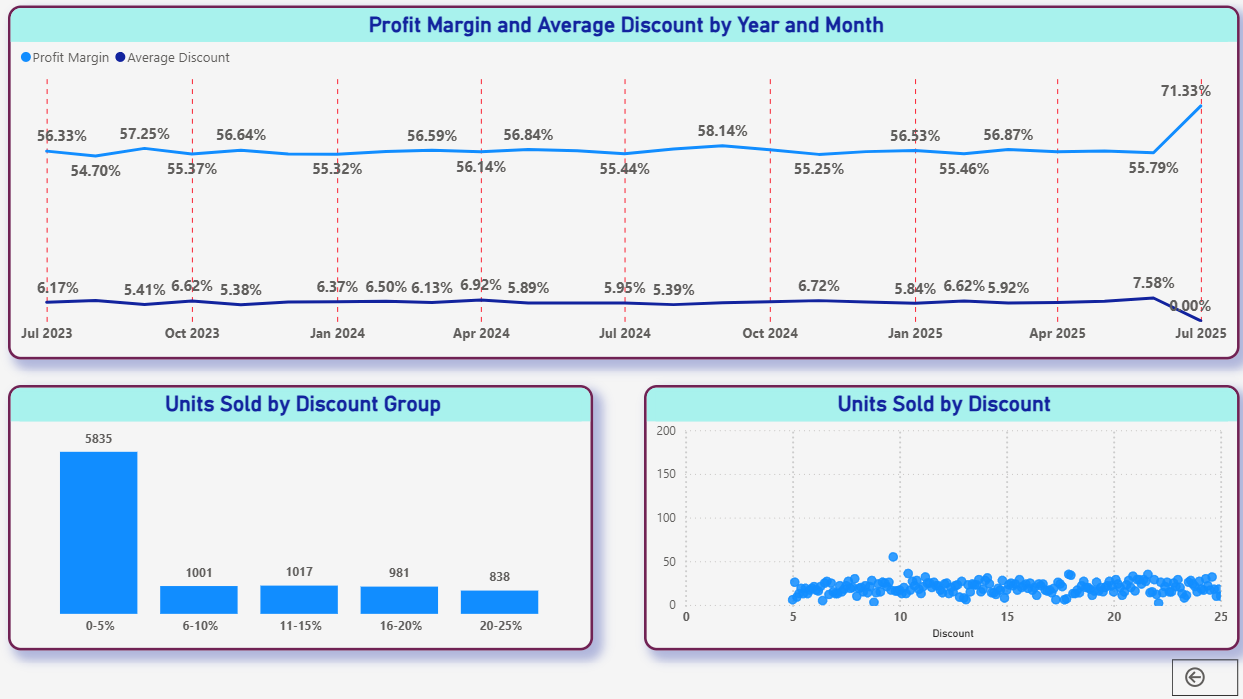

Layout of this report page (visuals, bound fields, positions):
{"tool":"powerbi","page":{"name":"Trends and insights","canvas":[1280,720],"ordinal":3},"visuals":[{"type":"lineChart","fields":{"Y":["tastybites_orders.Profit Margin","tastybites_orders.Average Discount"],"Category":["tastybites_orders.OrderDate.Variation.Date Hierarchy.Year","tastybites_orders.OrderDate.Variation.Date Hierarchy.Month"]},"box":[21.2,16.7,1243.2,357.4],"z":0},{"type":"clusteredColumnChart","fields":{"Category":["tastybites_orders.Discount Group"],"Y":["tastybites_orders.Units Sold"]},"box":[21.2,399.8,590.5,268],"z":1000},{"type":"scatterChart","fields":{"Y":["tastybites_orders.Units Sold"],"X":["tastybites_orders.Discount"]},"box":[663.2,399.8,601.1,268],"z":2000},{"type":"actionButton","box":[1196.2,676.8,66.6,36.3],"z":2001}]}

Visuals, with their boxes in screenshot pixels (x1, y1, x2, y2), scaled from the page's 1280x720 canvas onto the 1243x699 screenshot:
lineChart - tastybites_orders.Profit Margin x tastybites_orders.Average Discount: <bbox>21, 16, 1228, 363</bbox>
clusteredColumnChart - tastybites_orders.Discount Group x tastybites_orders.Units Sold: <bbox>21, 388, 594, 648</bbox>
scatterChart - tastybites_orders.Units Sold x tastybites_orders.Discount: <bbox>644, 388, 1228, 648</bbox>
actionButton: <bbox>1162, 657, 1226, 692</bbox>
